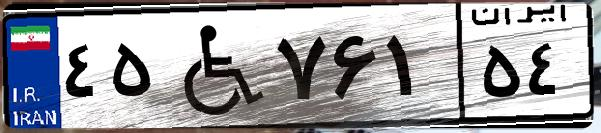1: (385, 28, 445, 110)
4: (57, 26, 110, 100), (525, 38, 570, 115)
5: (475, 38, 525, 113), (110, 28, 158, 98)
6: (330, 28, 385, 110)
7: (270, 28, 330, 110)
ژ (معلولین و جانبازان): (158, 12, 270, 120)
